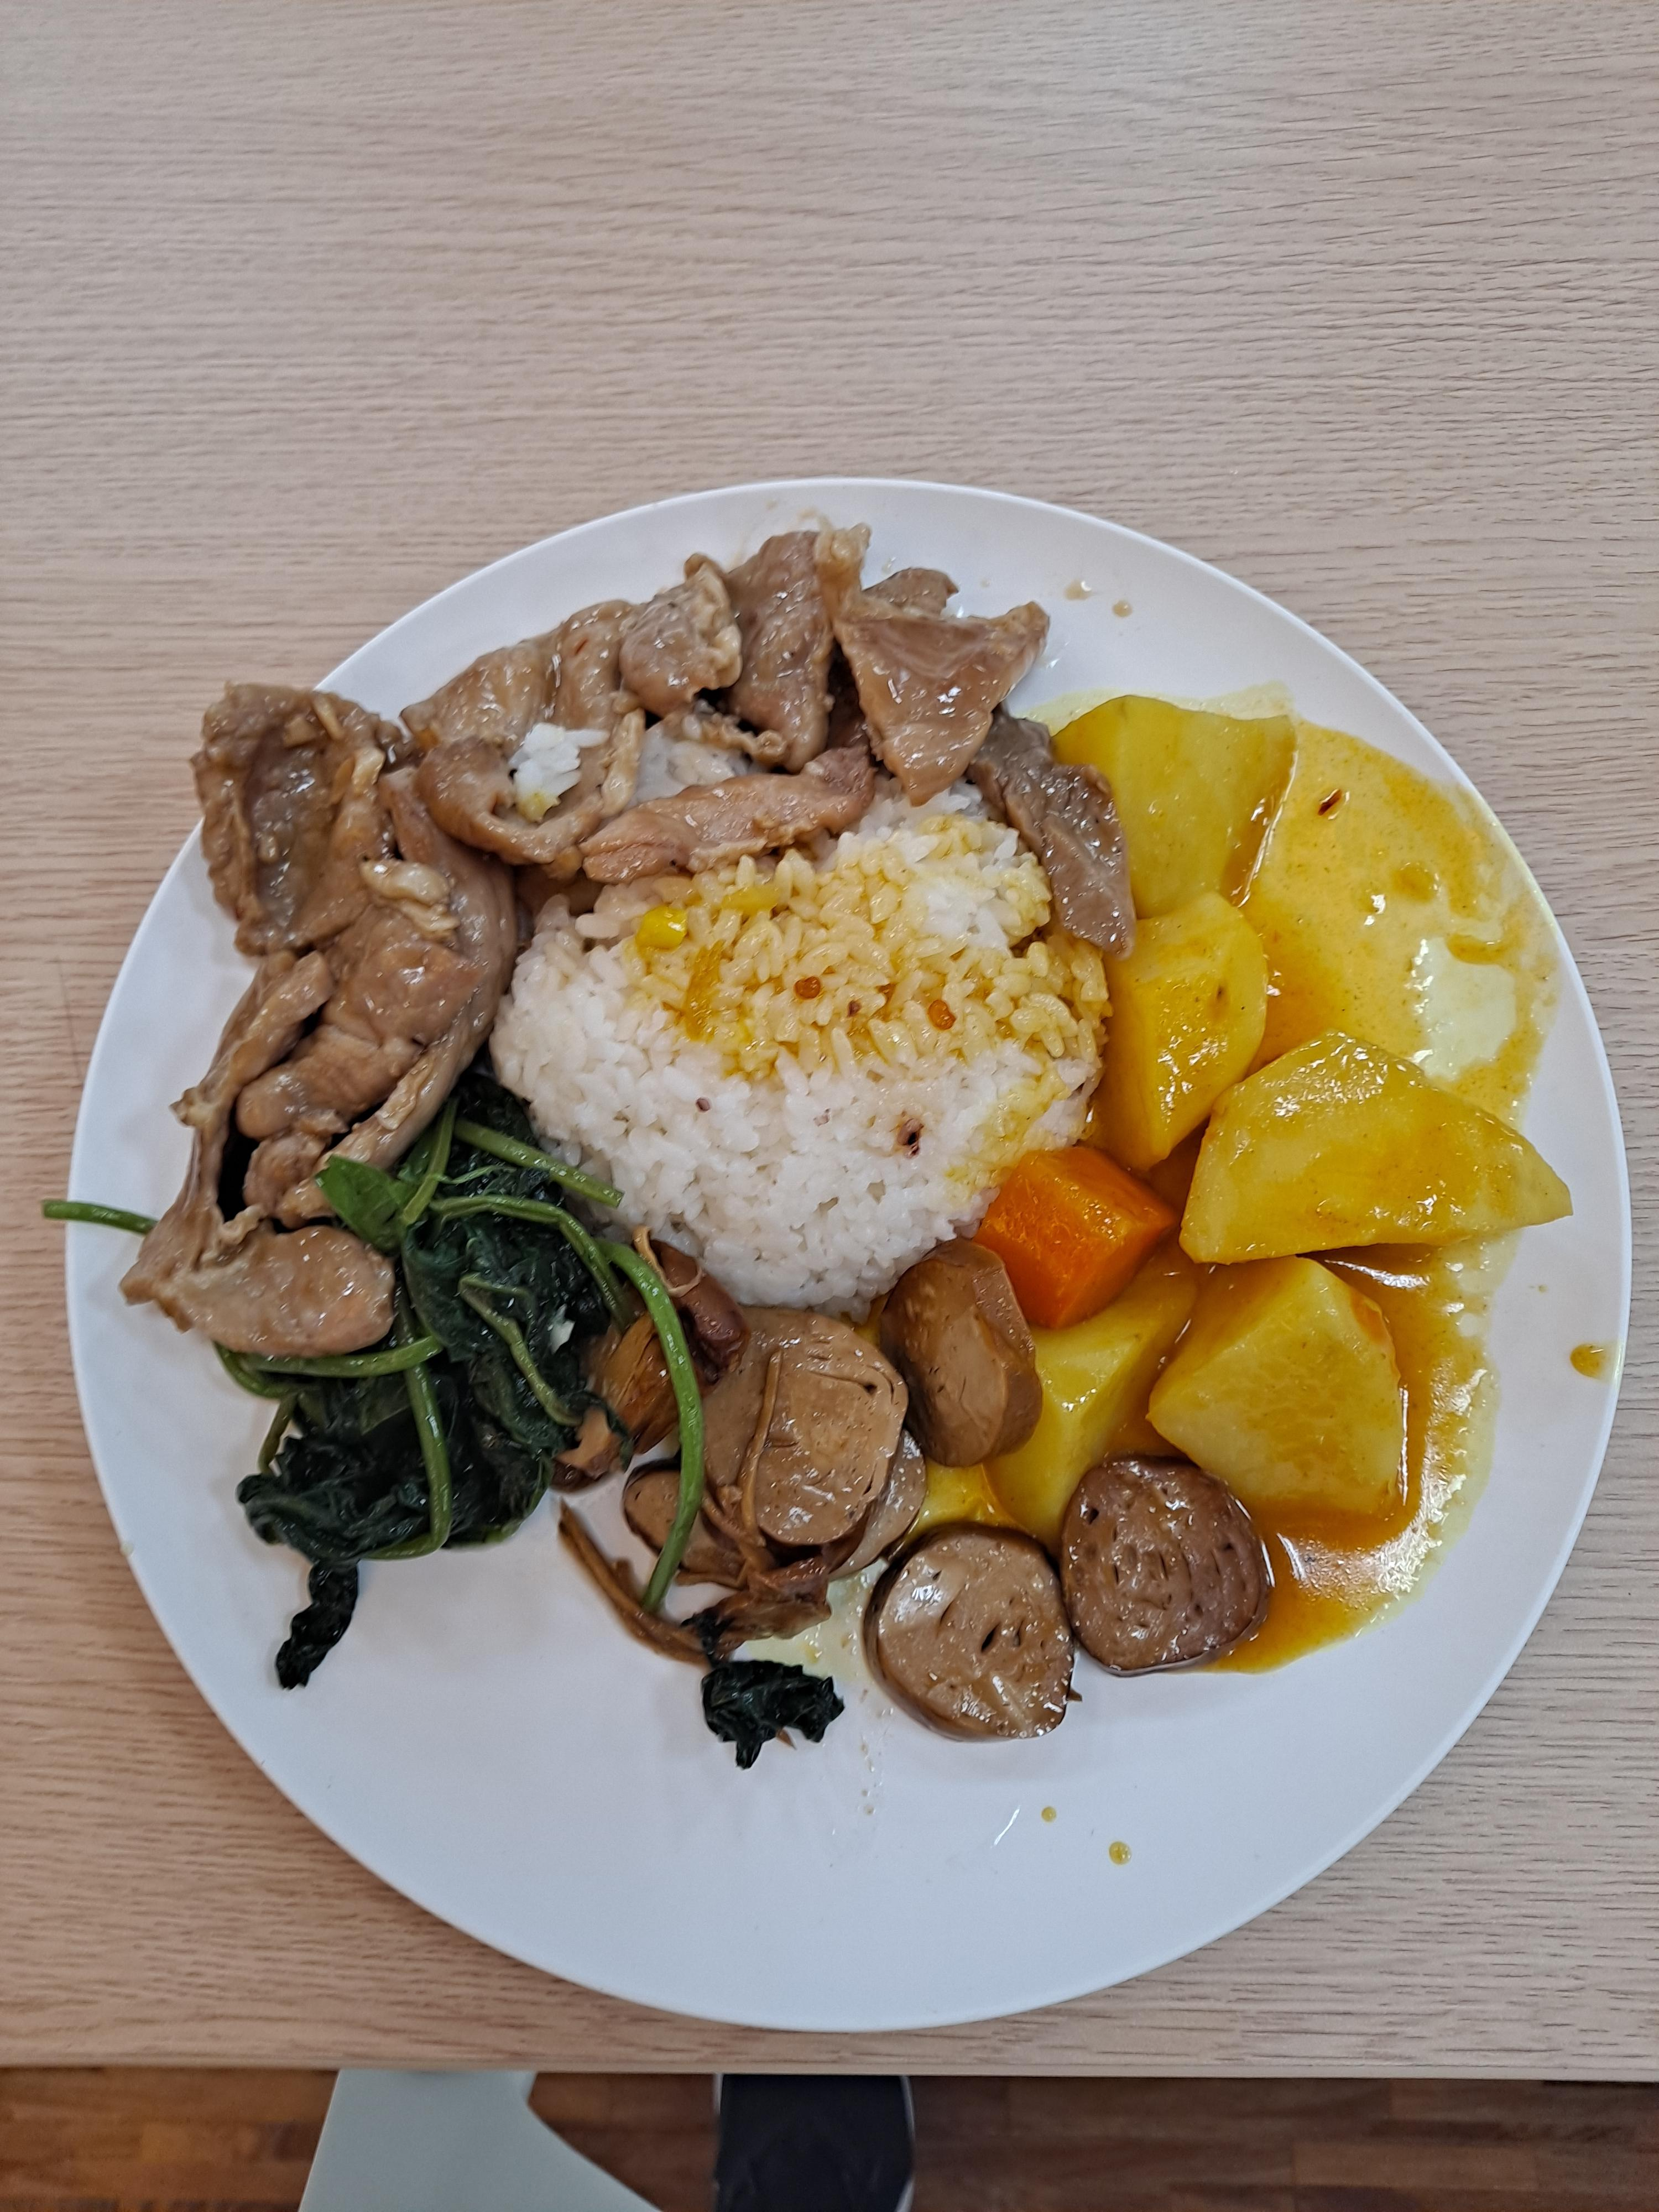big fried chicken leg: (47, 620, 1237, 2212)
big herbal chicken leg: (382, 1061, 814, 1709)
braised fish fillet: (784, 939, 1115, 2045), (525, 1696, 910, 2212), (225, 1456, 465, 2118)
braised pork: (160, 716, 819, 1209)
